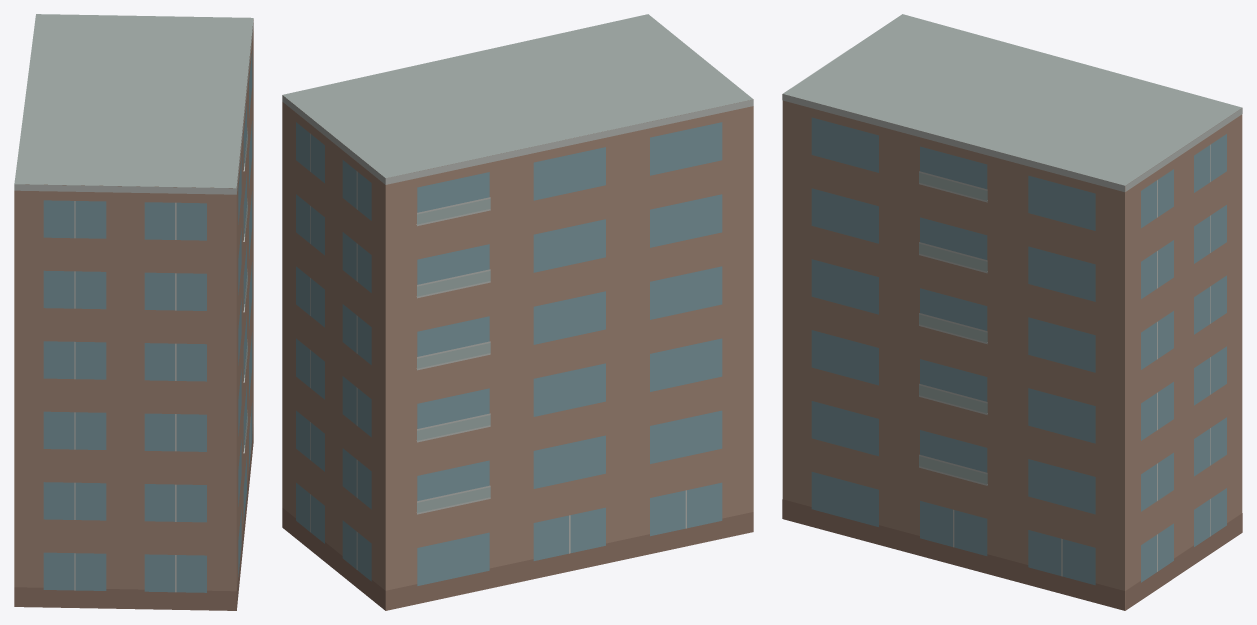
Rendered from survey-upis-32881272.glb.
3 views of the same model, side by side, from view 1: azimuth 30°, elevation 25°; view 2: azimuth 150°, elevation 25°; view 3: azimuth 270°, elevation 25° (orthographic). The views are drawn at different scales.
Visible parts, largest first — view 1: survey-upis-32881272.tmp; view 2: survey-upis-32881272.tmp; view 3: survey-upis-32881272.tmp.
Part boxes in pixels (bbox=[...]): survey-upis-32881272.tmp: bbox=[14, 14, 253, 610]; survey-upis-32881272.tmp: bbox=[282, 14, 753, 610]; survey-upis-32881272.tmp: bbox=[782, 14, 1242, 610].
Size of the model in its own units: 13.7 by 15.8 by 15.5.
